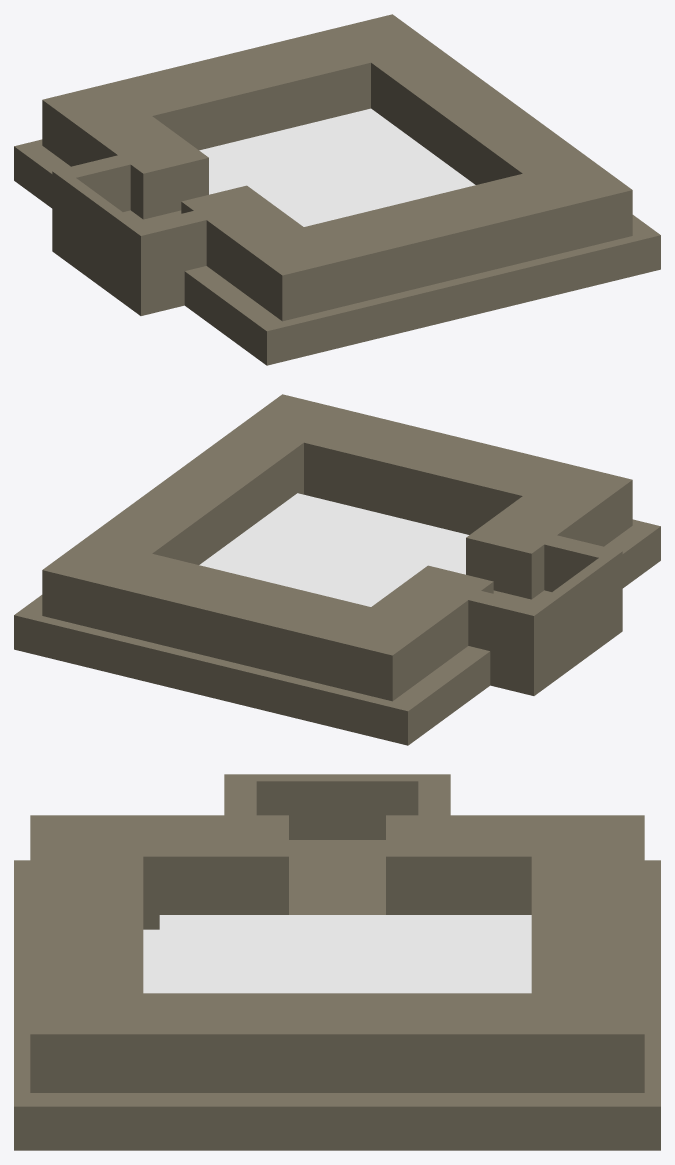
The model's file is Smelter.obj.
3 renders of one model, top to bottom at view 1: azimuth 30°, elevation 25°; view 2: azimuth 150°, elevation 25°; view 3: azimuth 270°, elevation 25°, orthographic. The views are drawn at different scales.
Bounding box in the file's own units: 4 × 0.7 × 4.
Materials: 1 (1 with a texture image).
